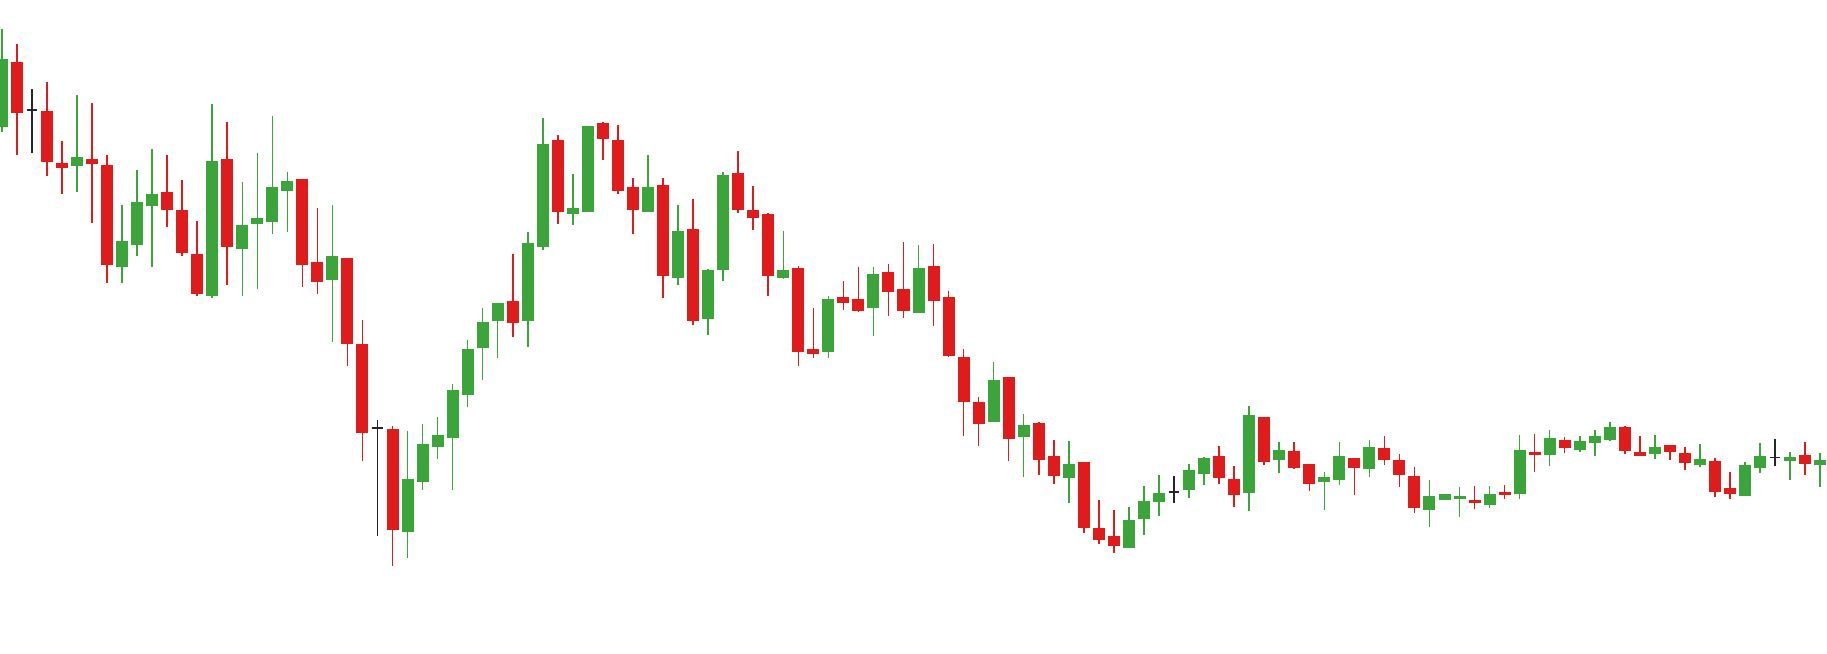sell: (144, 103, 237, 233)
